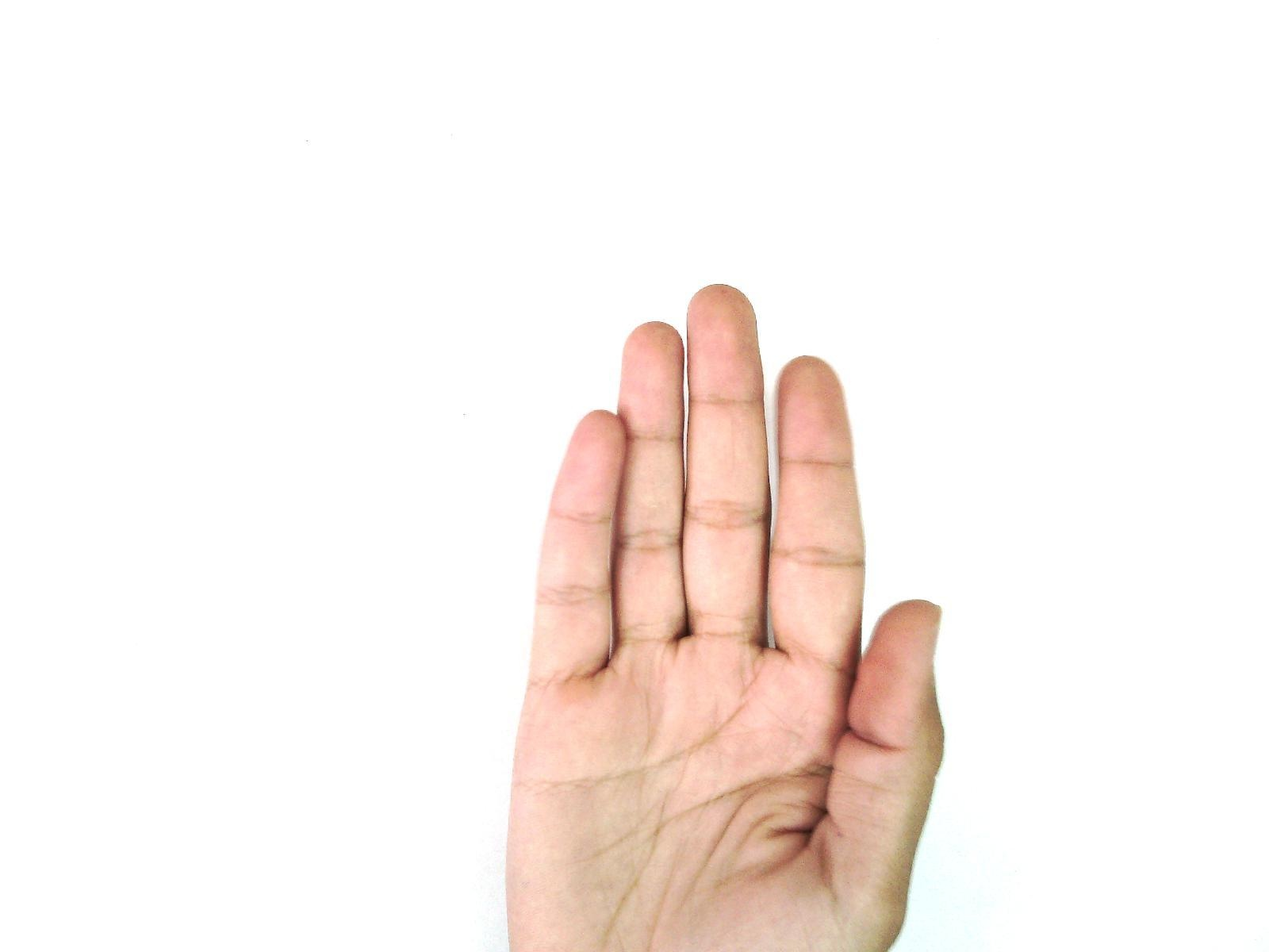open_palm: (501, 283, 948, 951)
